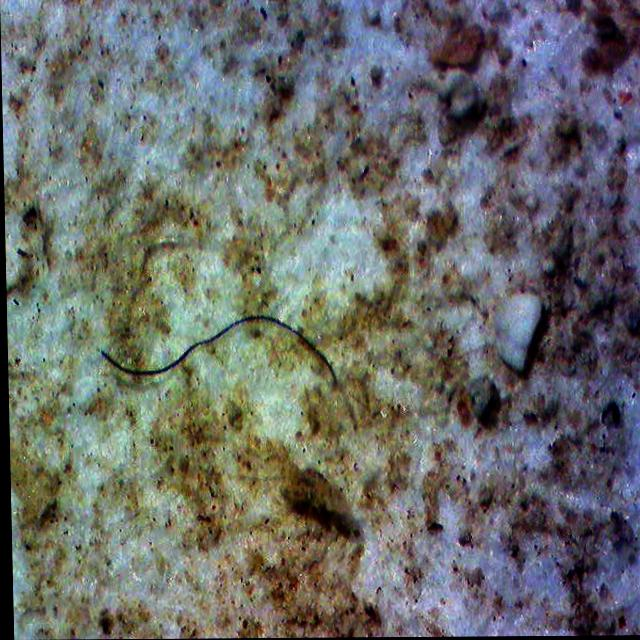microplastic: (97, 316, 336, 392)
